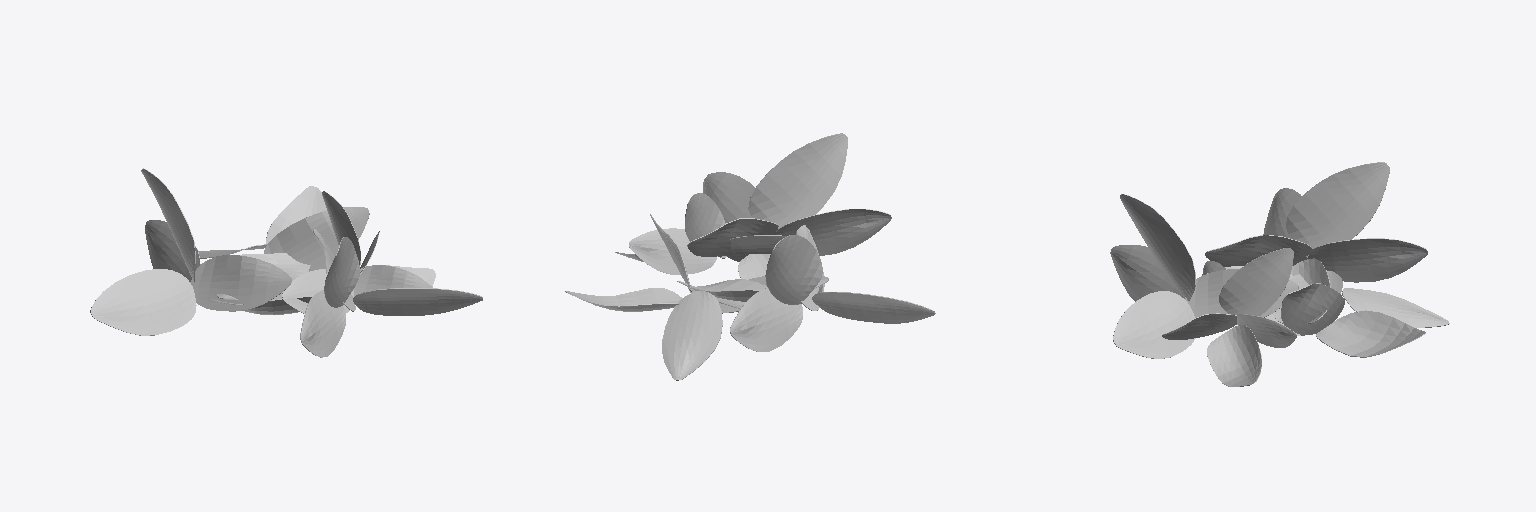
Rendered from SetA_PottedPlant_Style_01_Leaves.obj.
3 renders of one model, left to right at view 1: azimuth 30°, elevation 25°; view 2: azimuth 150°, elevation 25°; view 3: azimuth 270°, elevation 25°, orthographic.
Visible parts, largest first — view 1: SetA_PottedPlant_Style_01_Leaves; view 2: SetA_PottedPlant_Style_01_Leaves; view 3: SetA_PottedPlant_Style_01_Leaves.
Part boxes in pixels (bbox=[...]): SetA_PottedPlant_Style_01_Leaves: bbox=[90, 168, 482, 357]; SetA_PottedPlant_Style_01_Leaves: bbox=[565, 133, 935, 380]; SetA_PottedPlant_Style_01_Leaves: bbox=[1110, 162, 1449, 386].
Size of the model in its own units: 0.3482 by 0.1292 by 0.3083.